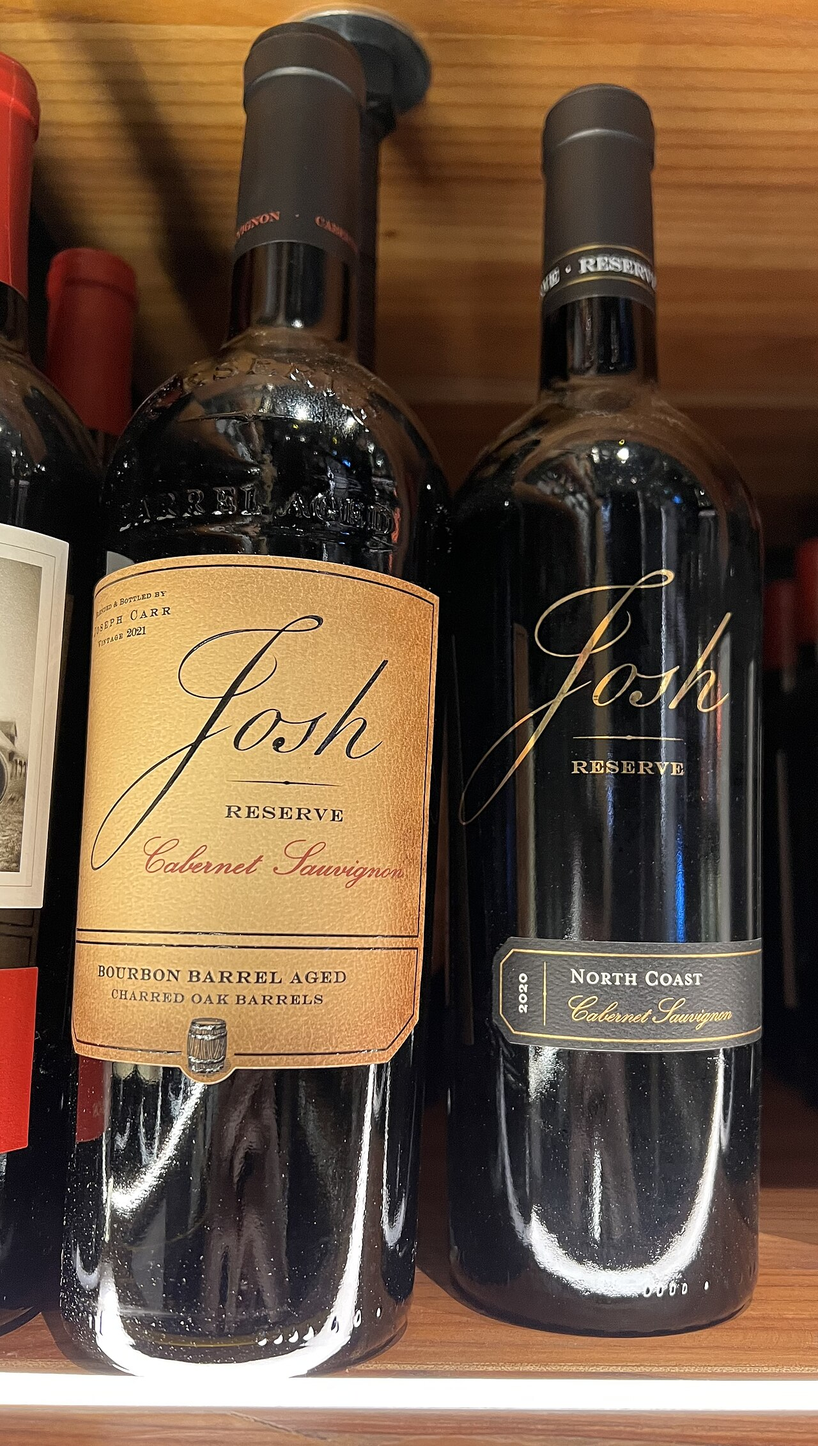unknown_bottle: (54, 14, 449, 1373), (436, 87, 767, 1339), (2, 55, 105, 1271)
